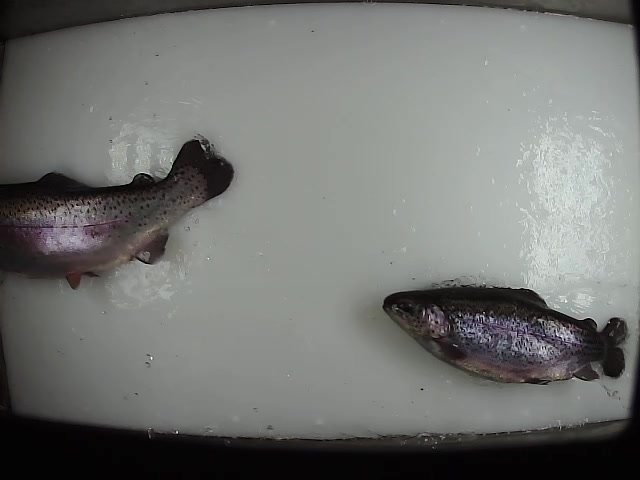fish: (1, 133, 236, 295), (380, 283, 631, 387)
